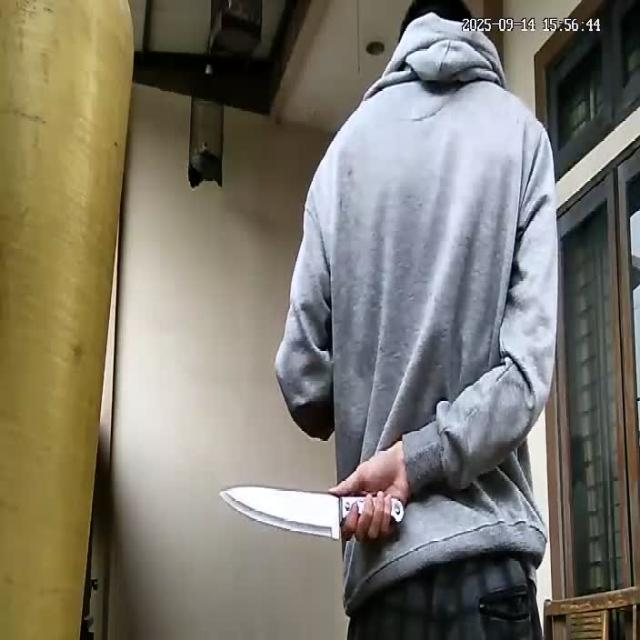senjata_tajam: (217, 484, 344, 540)
